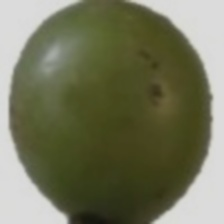grapes: (37, 41, 204, 224)
